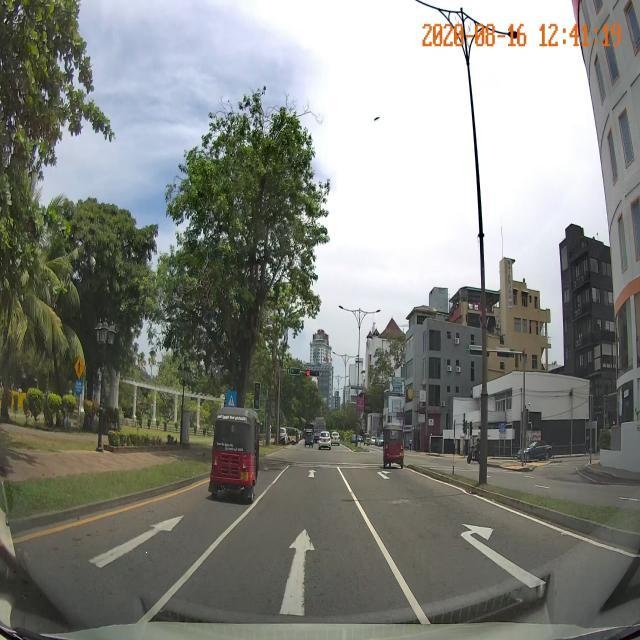forward: (141, 518, 429, 621)
